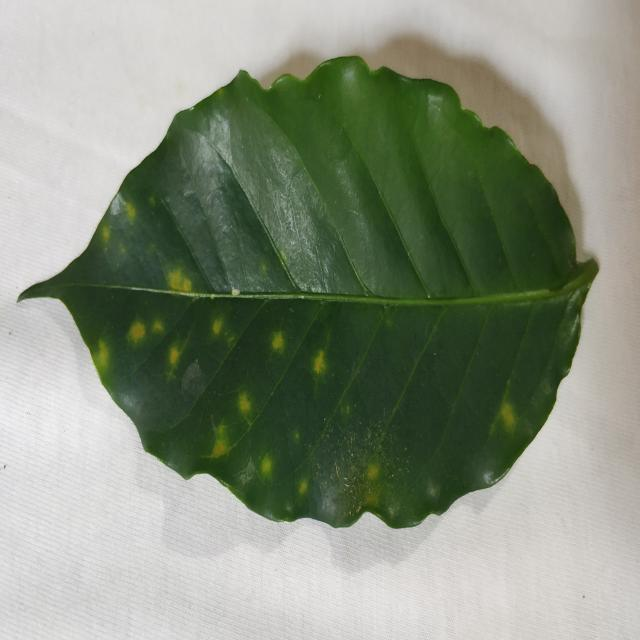Enfermedad-Roya: (17, 56, 600, 532)
